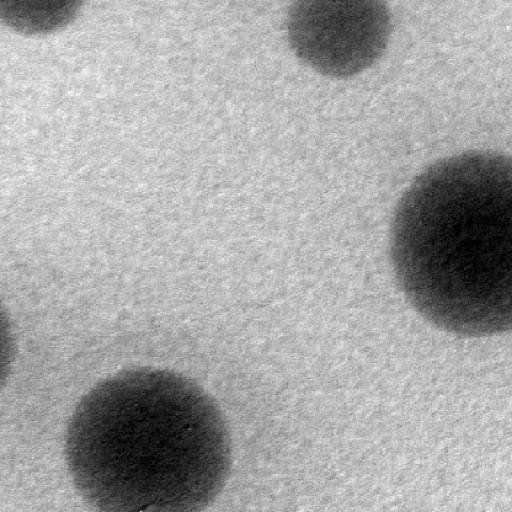Nanoparticles: (63, 363, 236, 512), (388, 146, 512, 336), (285, 0, 397, 80), (0, 0, 84, 35), (0, 306, 17, 388)
